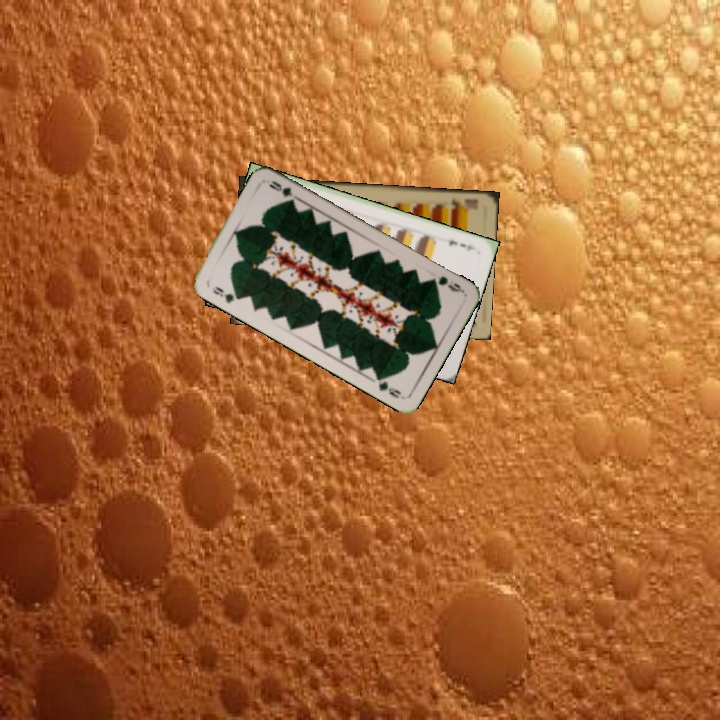E10: (448, 194, 480, 212)
E7: (444, 236, 479, 254)
G9: (426, 272, 466, 295), (209, 282, 244, 306)
